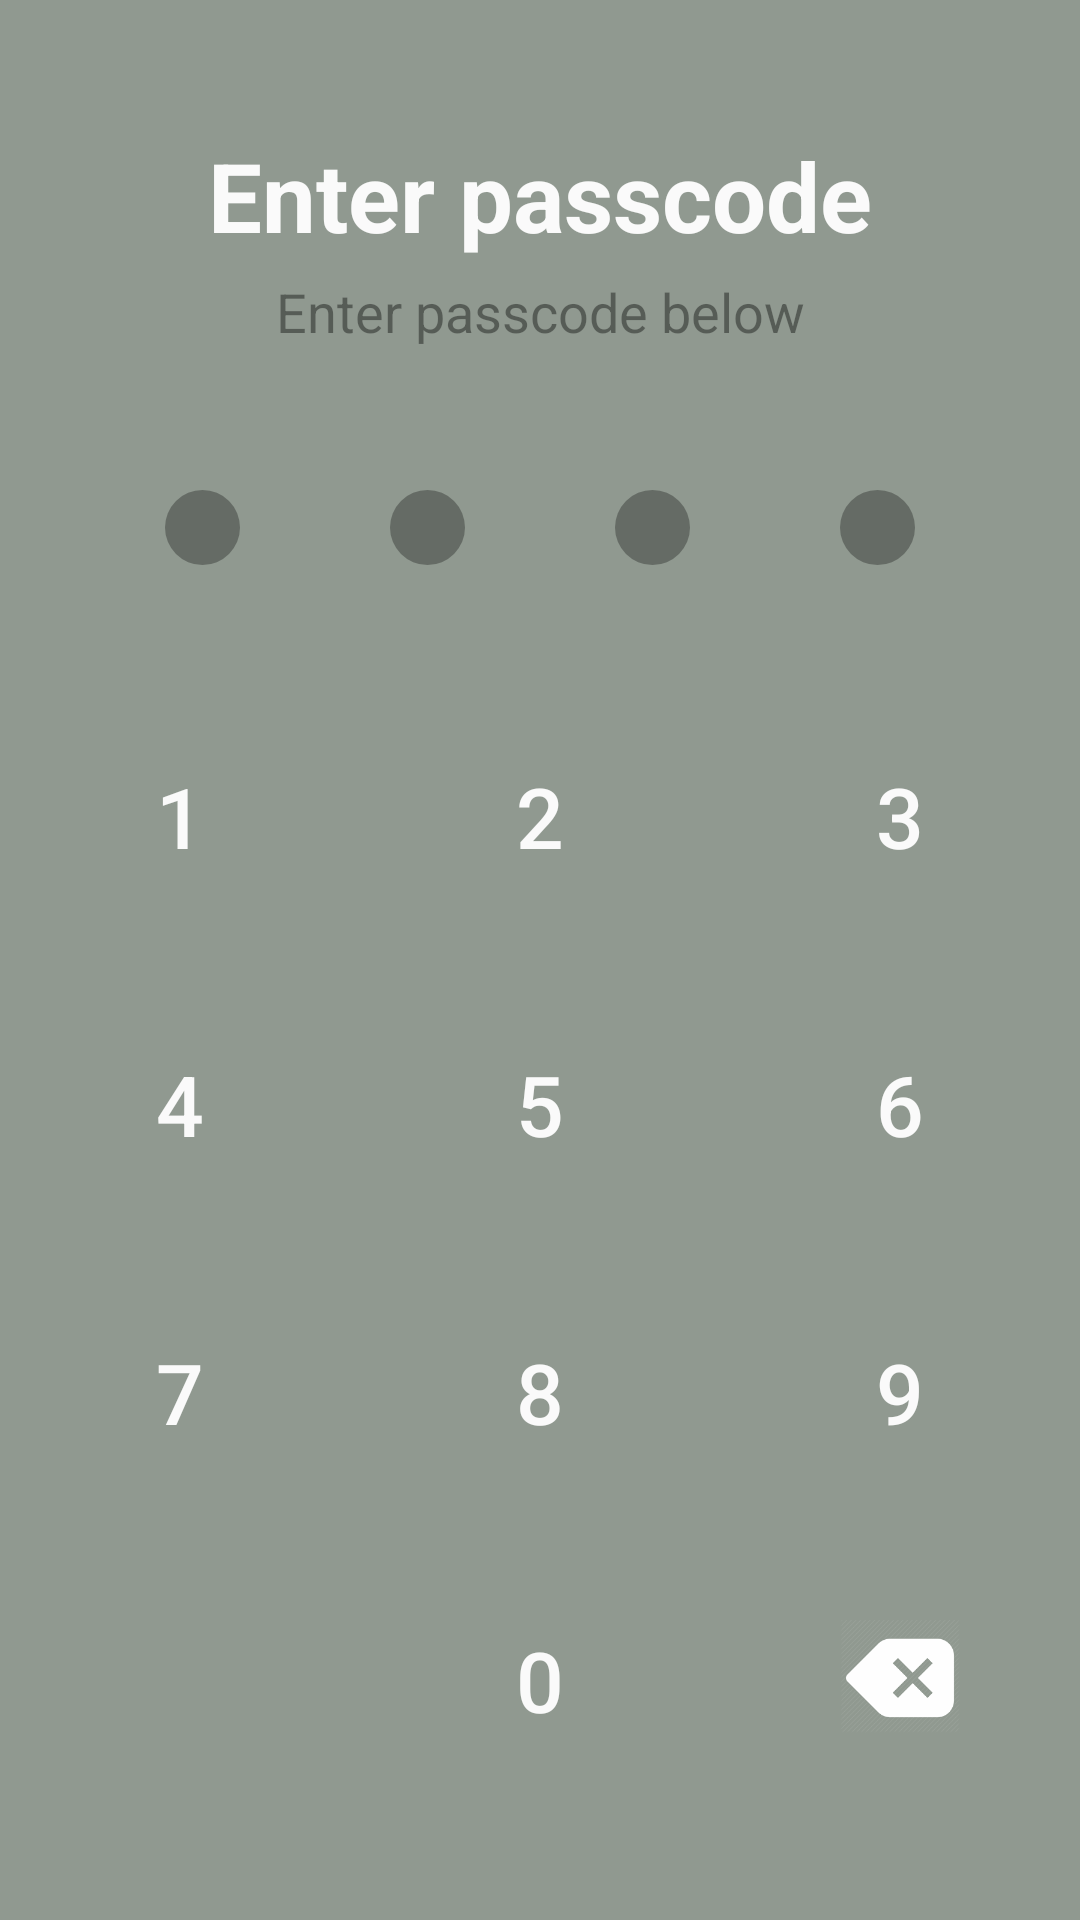

Screen size 1080 x 1920. Icon name, then its box in pixels as bbox=[x1, y1, x2, y2]:
backspace: bbox=[846, 1638, 954, 1717]
